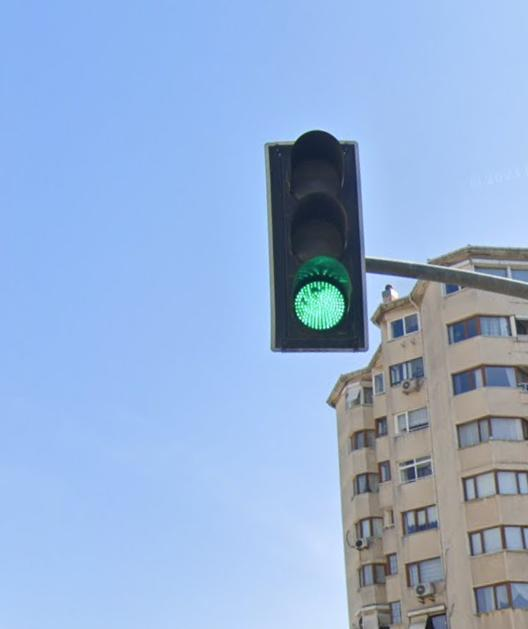greenlight: (267, 135, 365, 350)
